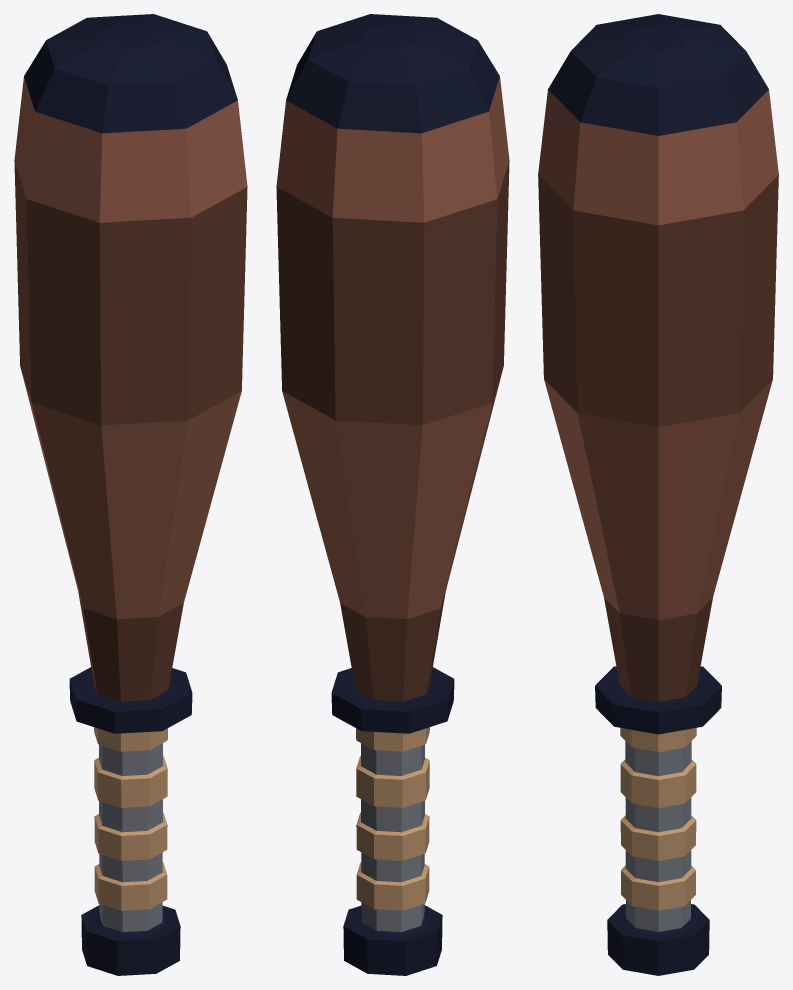
File: bat.glb
The picture shows the model from 3 angles, left to right: view 1: azimuth 30°, elevation 25°; view 2: azimuth 150°, elevation 25°; view 3: azimuth 270°, elevation 25°; orthographic projection.
Parts seen in each view (by area): view 1: Bat; view 2: Bat; view 3: Bat.
Part boxes in pixels (x1,y1,x2,y2): Bat: [14, 14, 247, 975]; Bat: [276, 14, 509, 975]; Bat: [538, 14, 778, 975].
Bounding box in the file's own units: 0.5894 × 2.48 × 0.5894.
Materials: 1 (1 with a texture image).
